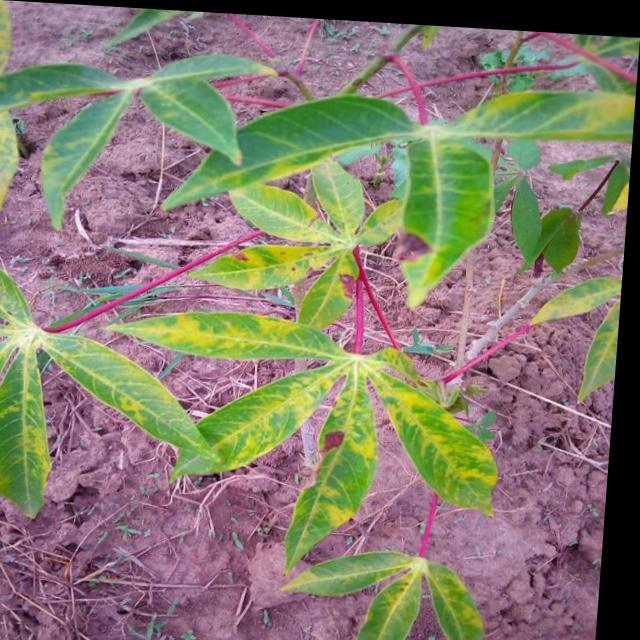Mosaico: (133, 270, 530, 498), (277, 67, 640, 267), (6, 269, 232, 477), (193, 141, 418, 340), (309, 520, 503, 640)
